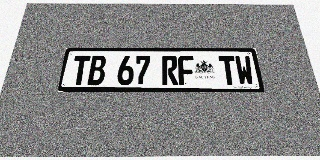6: (117, 56, 134, 85)
7: (134, 56, 150, 85)
B: (87, 56, 107, 85)
F: (178, 56, 195, 85)
R: (162, 56, 178, 85)
T: (70, 55, 90, 85), (218, 56, 238, 85)
W: (234, 56, 255, 85)
